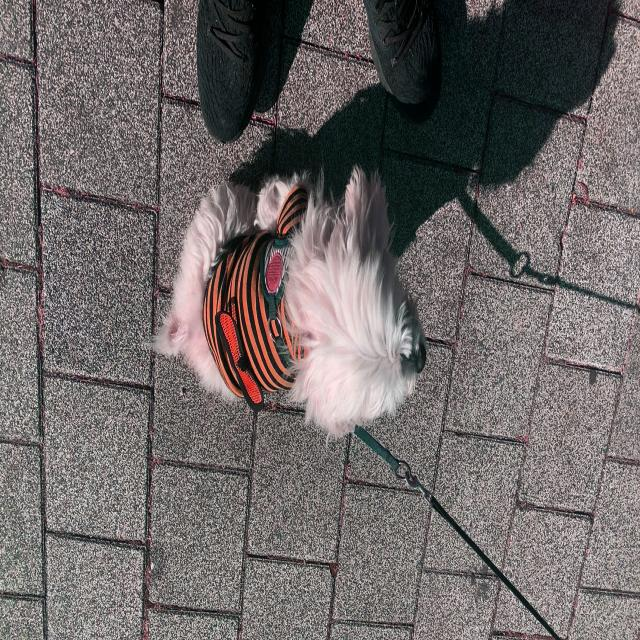Dog: (213, 189, 488, 478)
